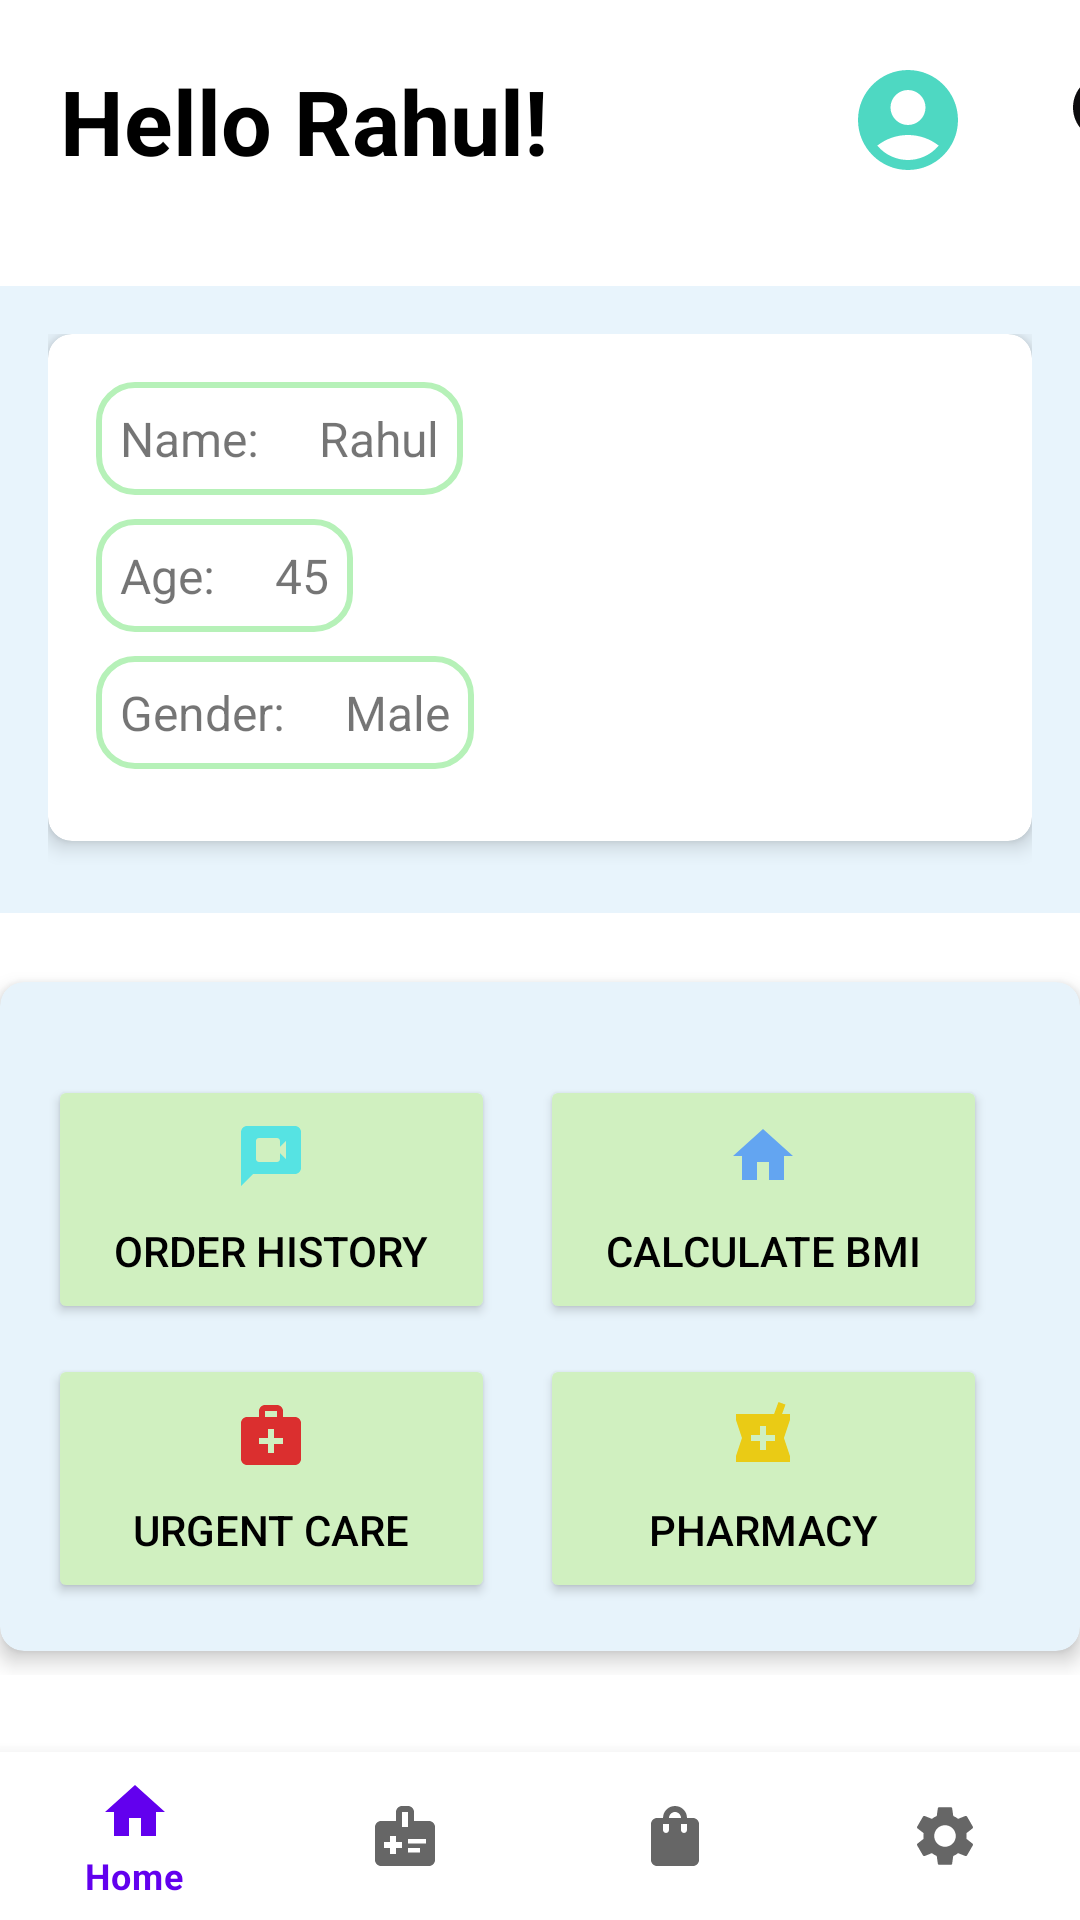

Icons on this 1080w x 1920h Android screen, each with its box as box=[x1, y1, x2, y2]:
account circle: box=[858, 70, 958, 170]
